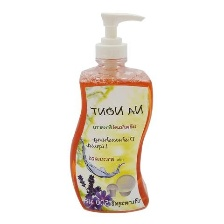cleaning_solution: (67, 7, 157, 216)
